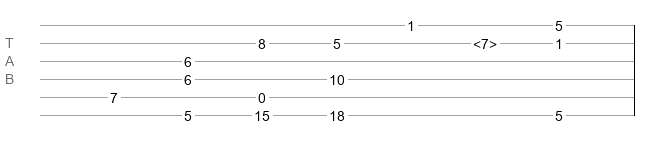0: (258, 90, 266, 100)
1: (407, 18, 415, 28), (555, 36, 563, 46)
10: (329, 72, 345, 82)
15: (254, 108, 270, 118)
18: (329, 108, 345, 118)
5: (184, 108, 192, 118), (333, 36, 341, 46), (555, 108, 563, 118), (555, 18, 563, 28)
6: (184, 72, 192, 82), (184, 54, 192, 64)
7: (110, 90, 118, 100)
8: (258, 36, 266, 46)
harmonic: (473, 36, 497, 46)
